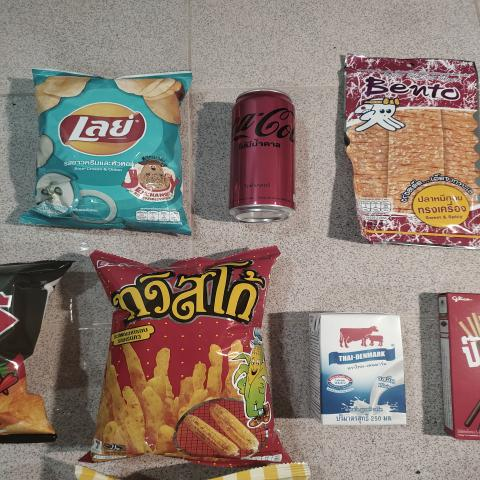bento_red: (349, 59, 480, 238)
coke_red: (233, 86, 298, 224)
lay_blue: (38, 73, 183, 232)
thai_denmark: (301, 316, 406, 431)
twisco: (111, 269, 262, 445)
